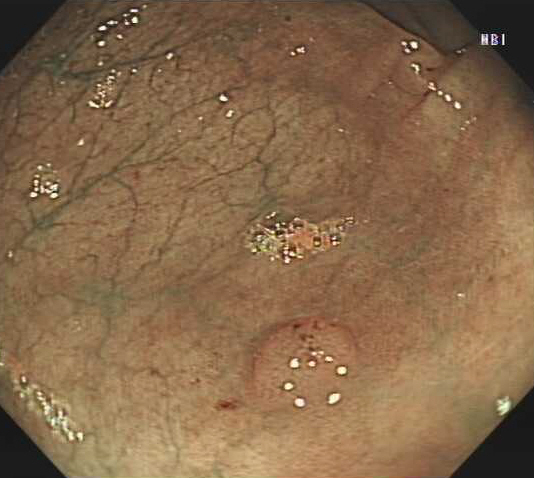others: (248, 314, 360, 408)
